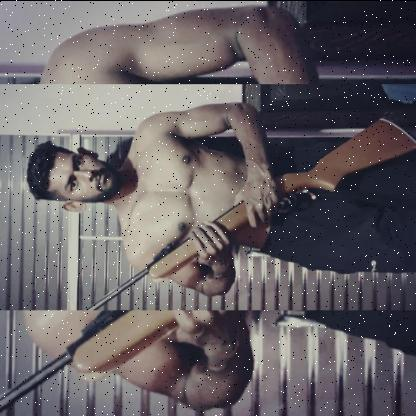rifle: (86, 114, 416, 310), (0, 309, 180, 412)
